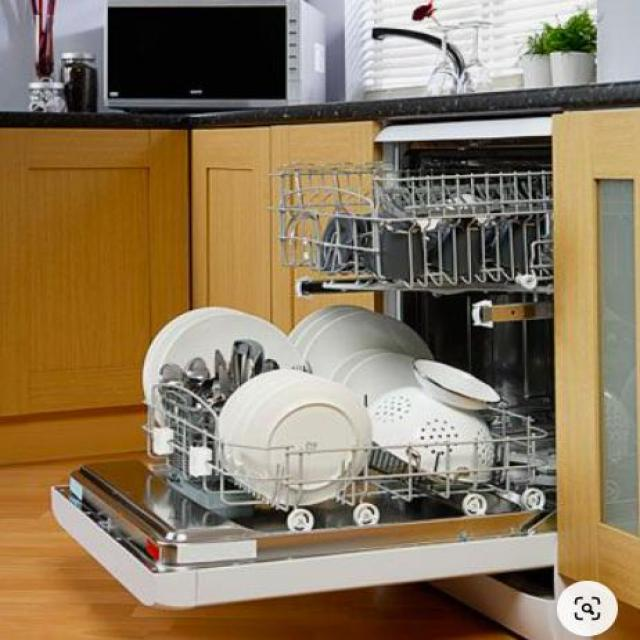dishwasher: (41, 98, 570, 614)
